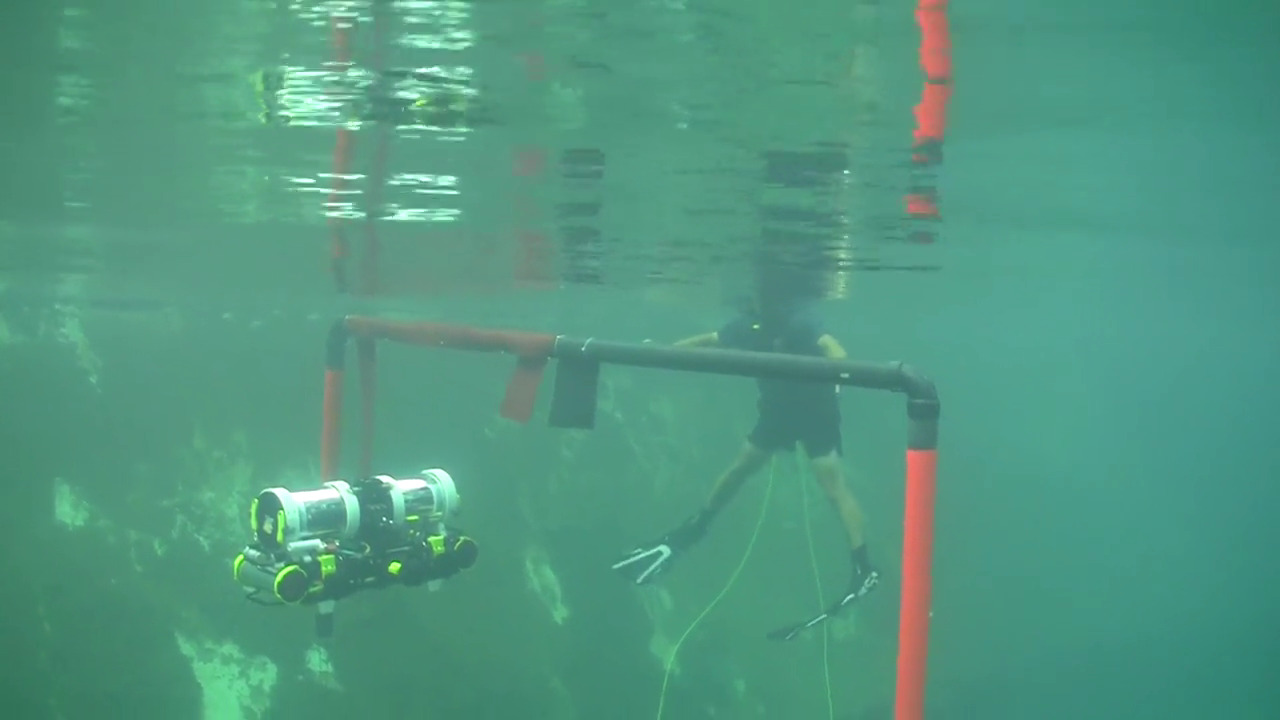gate: (306, 298, 950, 720)
